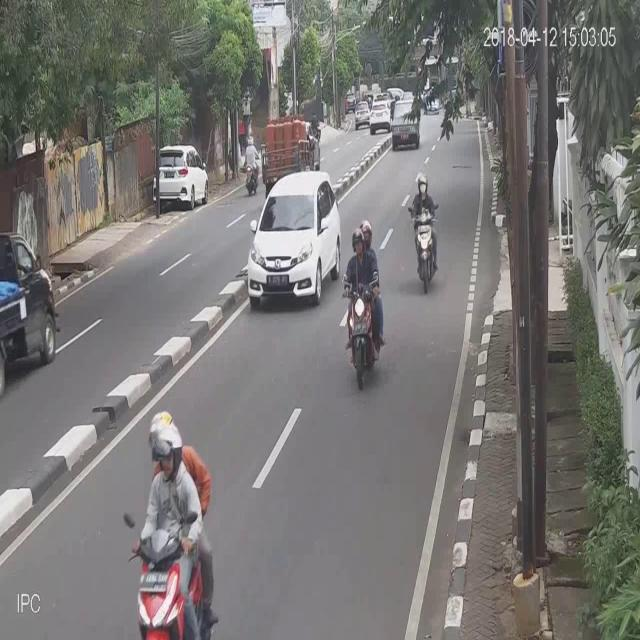bus: (125, 409, 218, 639), (340, 218, 388, 391), (405, 165, 443, 299), (240, 128, 259, 200)
motorcycle: (246, 166, 340, 308), (153, 139, 211, 213), (391, 96, 419, 152), (370, 98, 390, 135), (354, 98, 368, 130)
